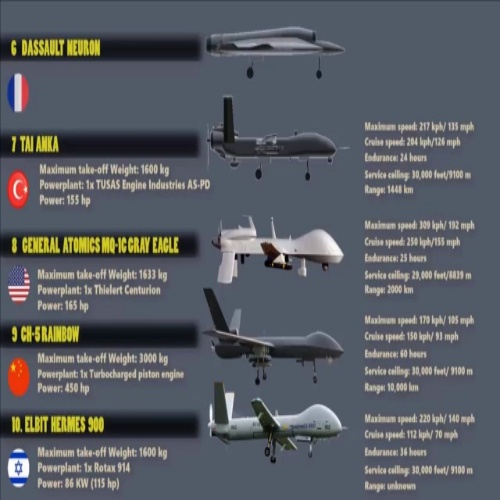uav836: (201, 286, 344, 382), (205, 93, 349, 180), (200, 382, 350, 463), (209, 210, 346, 283), (203, 21, 346, 77)
